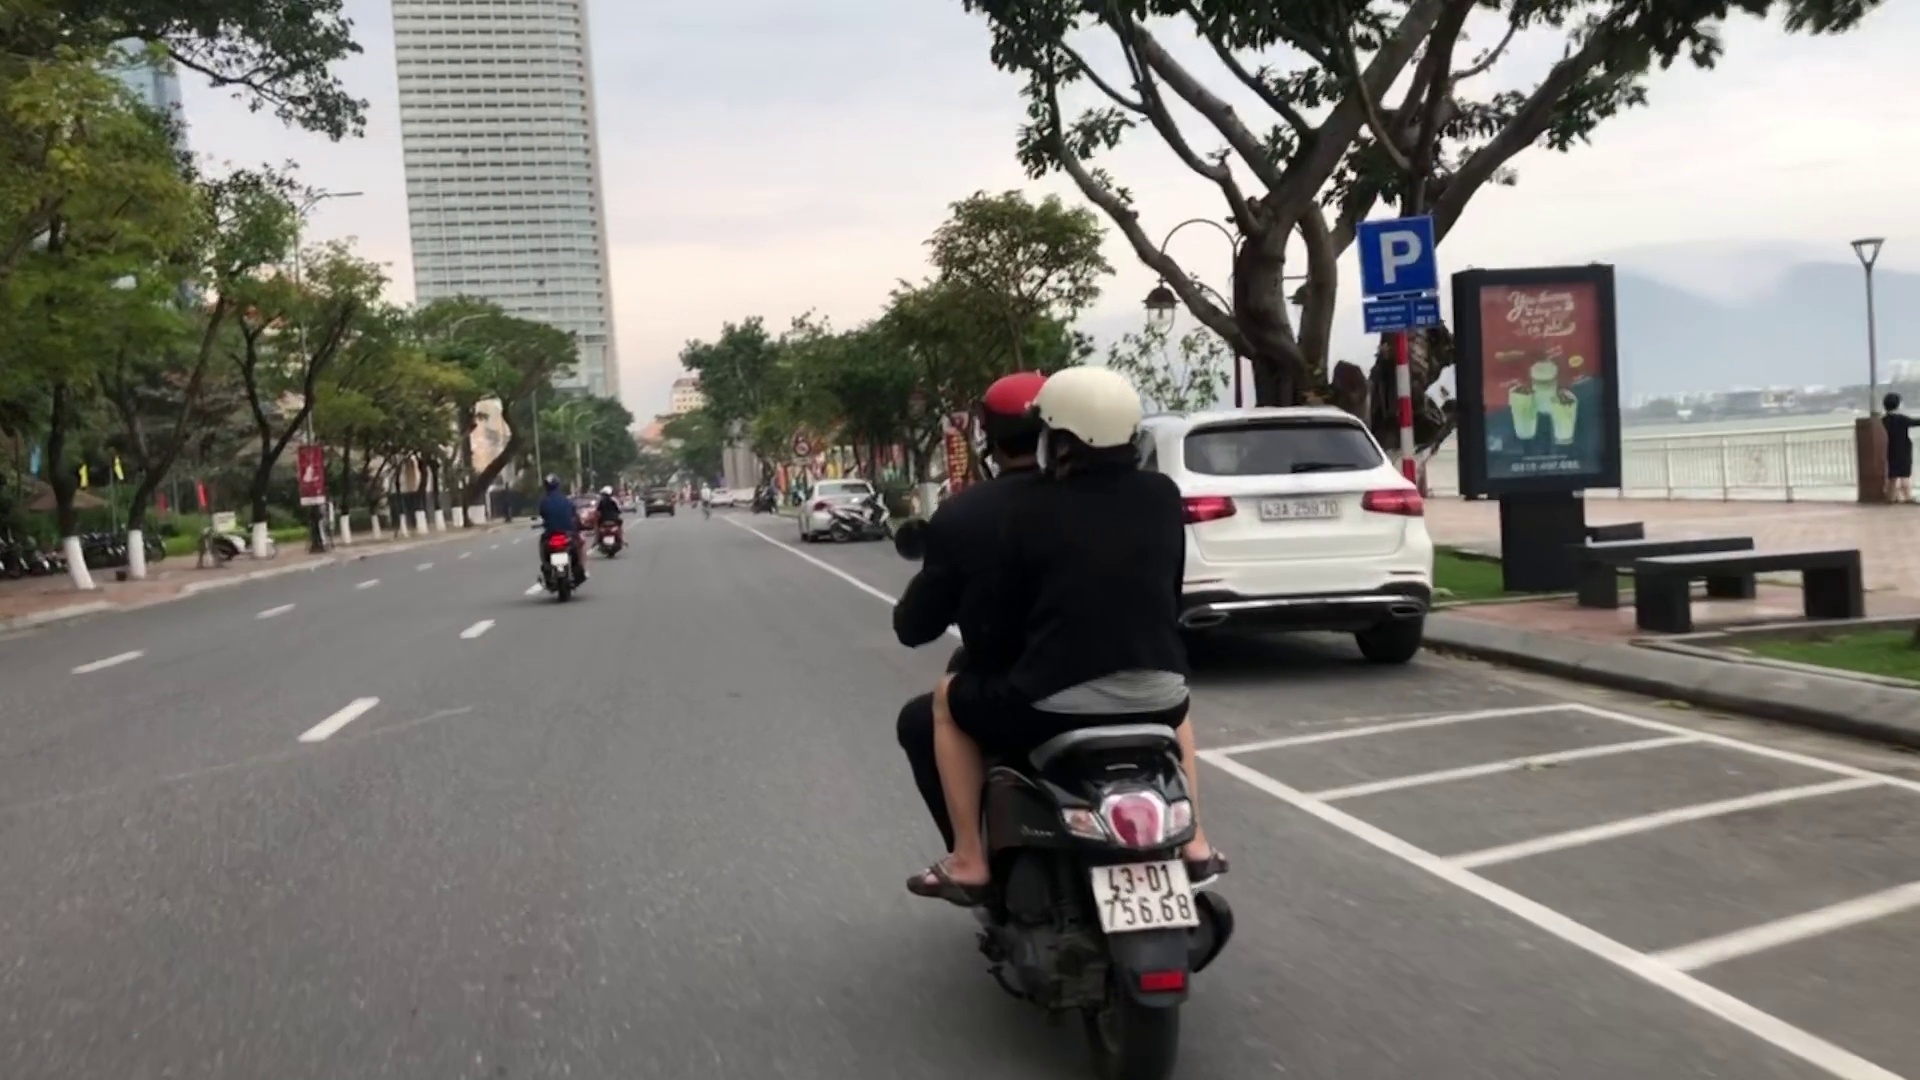Bien khac: (1354, 220, 1439, 295)
